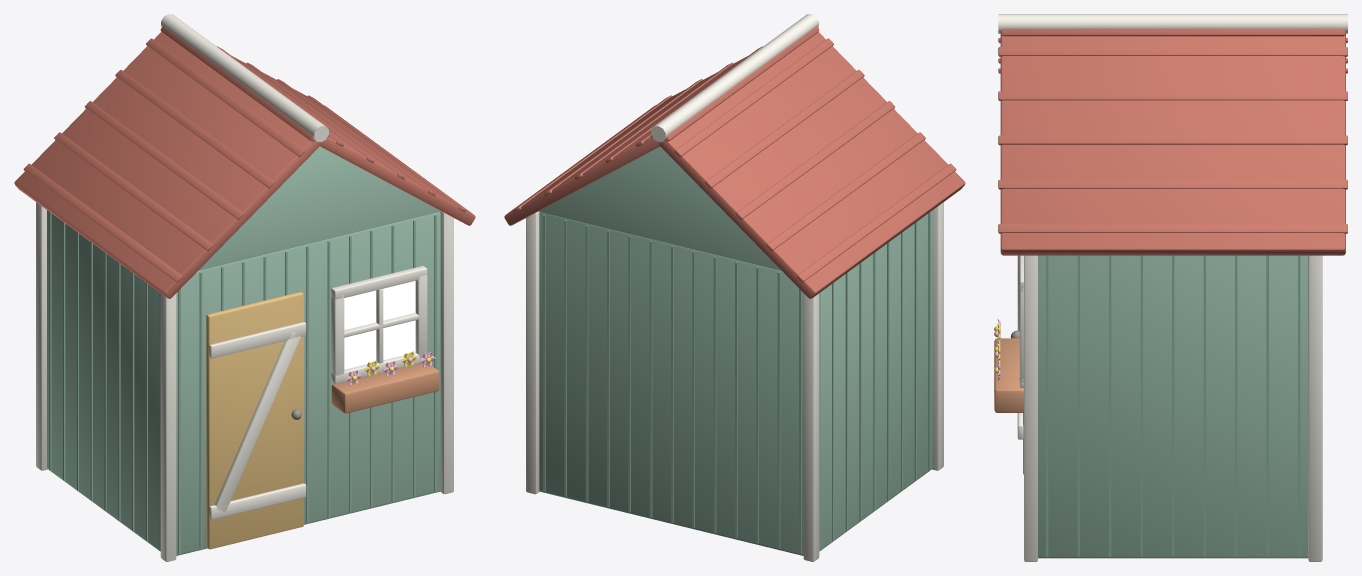
File: shed.glb
3 renders of one model, left to right at view 1: azimuth 30°, elevation 25°; view 2: azimuth 150°, elevation 25°; view 3: azimuth 270°, elevation 25°, orthographic. The views are drawn at different scales.
Visible parts, largest first — view 1: shed; view 2: shed; view 3: shed.
Part boxes in pixels (bbox=[...]): shed: bbox=[14, 14, 475, 561]; shed: bbox=[504, 14, 965, 561]; shed: bbox=[994, 14, 1347, 561].
Bounding box in the file's own units: 2.02 × 2.54 × 1.74.
